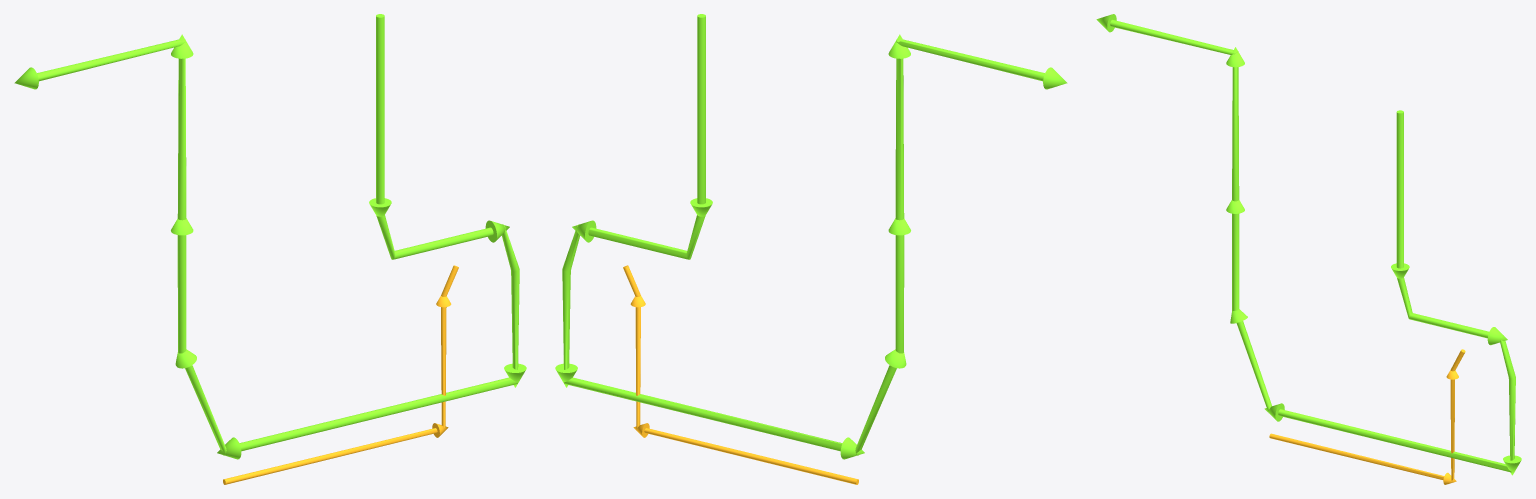
Rendered from rotary_screw_compressor_flow.glb.
The picture shows the model from 3 angles, left to right: view 1: azimuth 30°, elevation 25°; view 2: azimuth 150°, elevation 25°; view 3: azimuth 330°, elevation 25°; orthographic projection. The views are drawn at different scales.
Parts seen in each view (by area): view 1: air, oil_injection; view 2: air, oil_injection; view 3: air, oil_injection.
Part boxes in pixels (x1=…): air: x1=14, y1=14, x2=526, y2=459; oil_injection: x1=223, y1=265, x2=458, y2=484; air: x1=555, y1=14, x2=1067, y2=459; oil_injection: x1=623, y1=265, x2=858, y2=484; air: x1=1096, y1=14, x2=1521, y2=475; oil_injection: x1=1269, y1=349, x2=1465, y2=484.
Bounding box in the file's own units: 1.21 × 1.06 × 0.0468.
